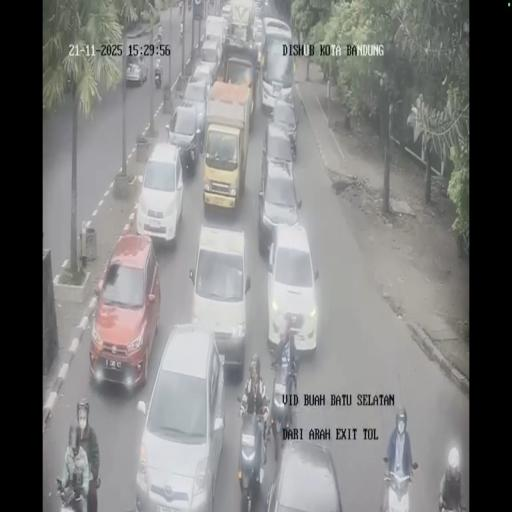3: (201, 80, 254, 213), (224, 0, 256, 56)
car: (133, 328, 224, 509), (89, 233, 160, 388), (189, 221, 250, 371), (136, 142, 185, 246), (259, 138, 301, 257), (166, 100, 201, 172), (262, 17, 293, 79), (202, 15, 227, 67), (190, 59, 216, 97), (125, 56, 147, 88), (251, 13, 265, 63), (252, 0, 262, 20)
truck: (236, 400, 270, 510), (268, 343, 299, 443), (381, 455, 416, 511), (154, 65, 162, 89), (154, 33, 162, 49), (179, 26, 183, 42), (178, 0, 183, 12), (208, 0, 214, 8)
